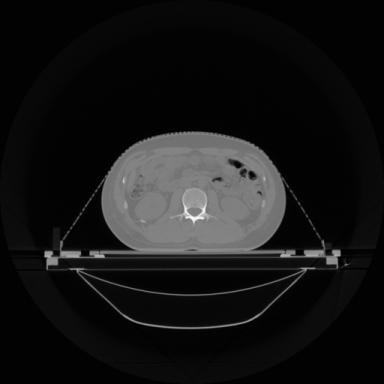body: (101, 132, 286, 251)
cord: (182, 188, 209, 224)
